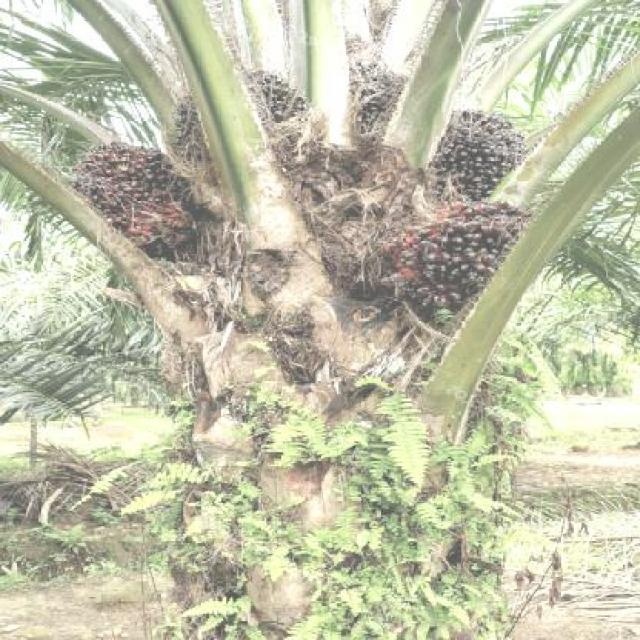palm-oil: (63, 125, 226, 268), (410, 195, 533, 302), (195, 68, 311, 174), (442, 108, 544, 208), (359, 57, 421, 165)
